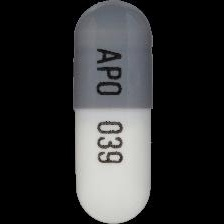60505-0039: (0, 0, 224, 224)
